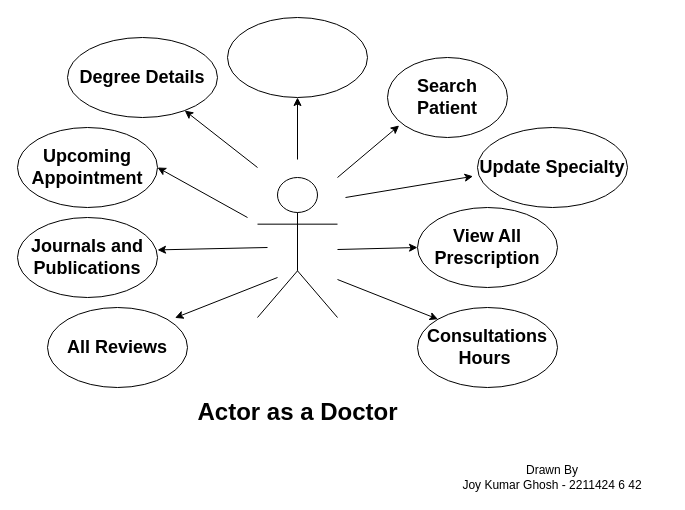
Image size: 685x510. Some labels were removed from this diagram. Each missing label, with the centre of its shape:
"Awards and Honors" belongs at point 297,57.
"Doctor" belongs at point 297,247.
